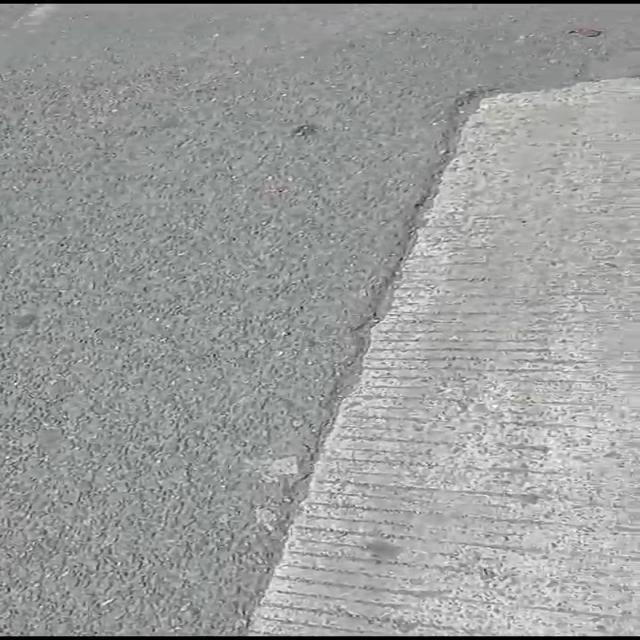Sambungan: (237, 71, 640, 638)
